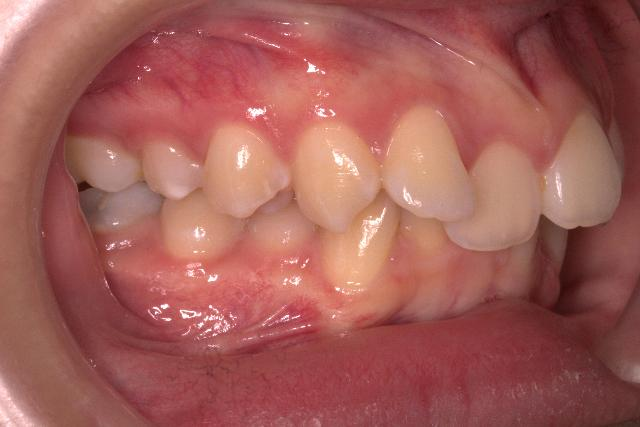canine class II 1/4: (245, 116, 401, 298)
molar class II 1/4: (58, 128, 164, 244)
